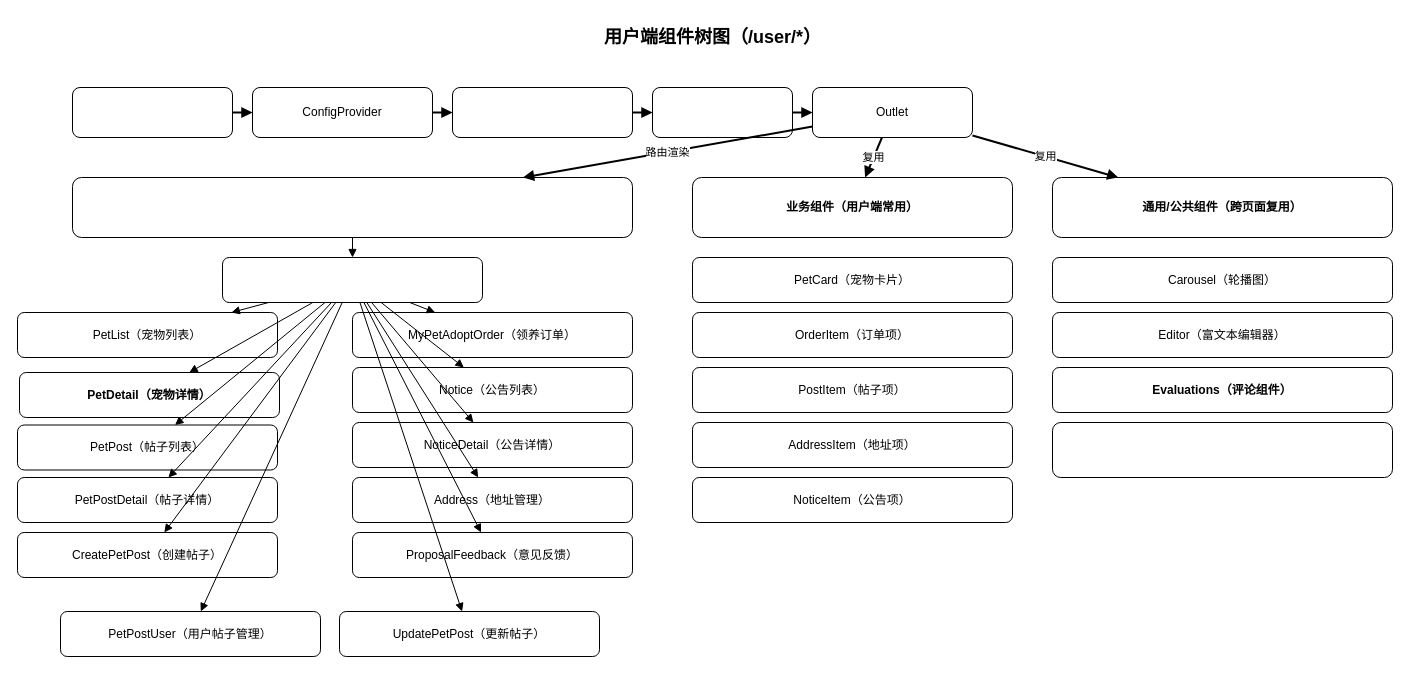
Image size: 1410x674. Some labels were removed from this diagram. Here are the shapes that lost their labels. From the top down, the centre of each, then its label:
At [152,112]: "main.tsx".
At [542,112]: "RouterProvider".
At [722,112]: "App".
At [352,207]: "用户端页面级组件（views/user/*）".
At [352,279]: "UserMain（用户主页布局）".
At [1222,450]: "Tab / Logo / LevelHeader / AutoInput / TocItem".
